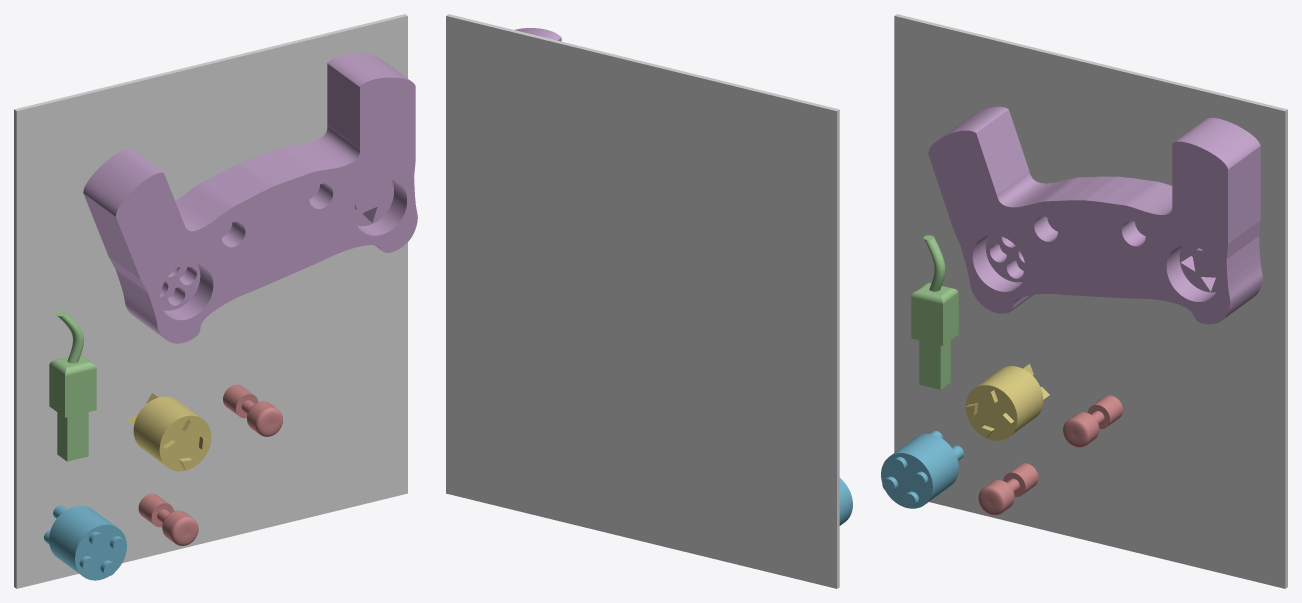
File: pickup_layout.glb
The picture shows the model from 3 angles, left to right: view 1: azimuth 30°, elevation 25°; view 2: azimuth 150°, elevation 25°; view 3: azimuth 330°, elevation 25°; orthographic projection.
Parts seen in each view (by area): view 1: world, 3.obj, 4.obj, 2.obj, 1.obj, 5.obj, 0.obj; view 2: world; view 3: world, 3.obj, 4.obj, 2.obj, 1.obj, 5.obj, 0.obj.
Boxes of the visible parts, <box> form: world: <box>14,14,407,588</box>; 3.obj: <box>83,53,417,343</box>; 4.obj: <box>49,311,96,461</box>; 2.obj: <box>44,505,126,580</box>; 1.obj: <box>127,393,211,471</box>; 5.obj: <box>138,493,198,545</box>; 0.obj: <box>223,384,282,436</box>; world: <box>446,14,839,588</box>; world: <box>894,14,1287,588</box>; 3.obj: <box>928,106,1262,324</box>; 4.obj: <box>911,235,958,389</box>; 2.obj: <box>881,430,963,508</box>; 1.obj: <box>965,363,1049,440</box>; 5.obj: <box>978,463,1038,515</box>; 0.obj: <box>1063,395,1122,447</box>.
Size of the model in its own units: 17.35 by 20.24 by 3.2.
